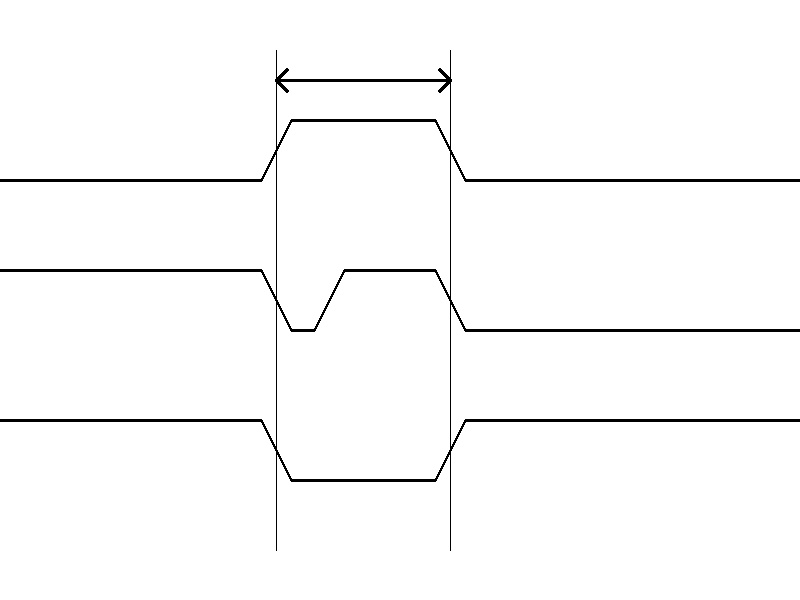double_arrow: (276, 65, 450, 95)
